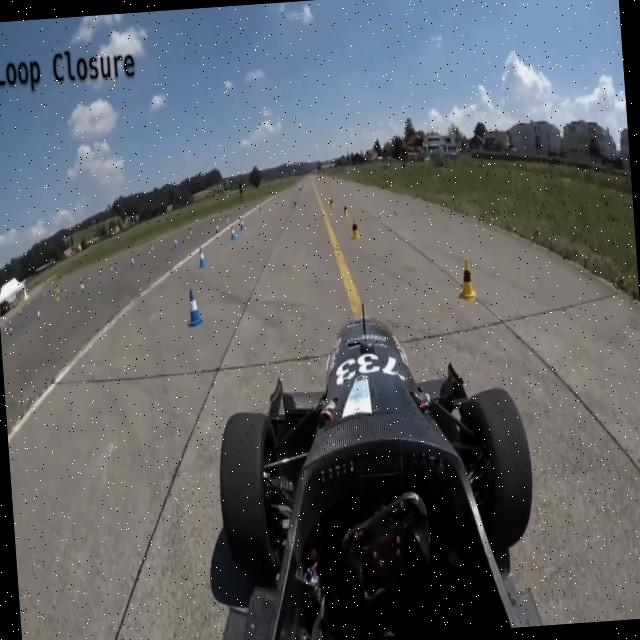blue_cone: (183, 286, 204, 332), (39, 626, 89, 640), (196, 244, 207, 270), (228, 226, 236, 242), (172, 236, 179, 254), (80, 282, 87, 300), (238, 218, 245, 234), (212, 222, 220, 236), (36, 307, 42, 323), (130, 255, 136, 268)
yellow_cone: (454, 254, 479, 302), (349, 217, 361, 243), (342, 200, 349, 218), (328, 196, 336, 210), (107, 258, 114, 272), (78, 275, 84, 289), (187, 223, 193, 236), (148, 240, 154, 252), (293, 198, 298, 212), (224, 212, 229, 224), (258, 205, 263, 216)
